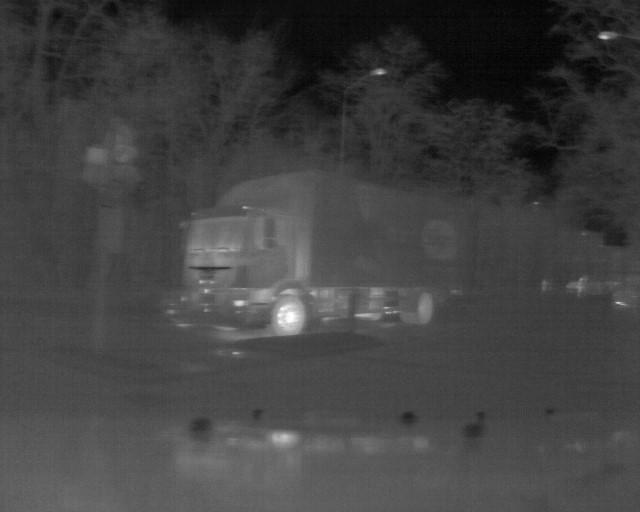car: (183, 182, 456, 333)
person: (577, 271, 589, 301)
